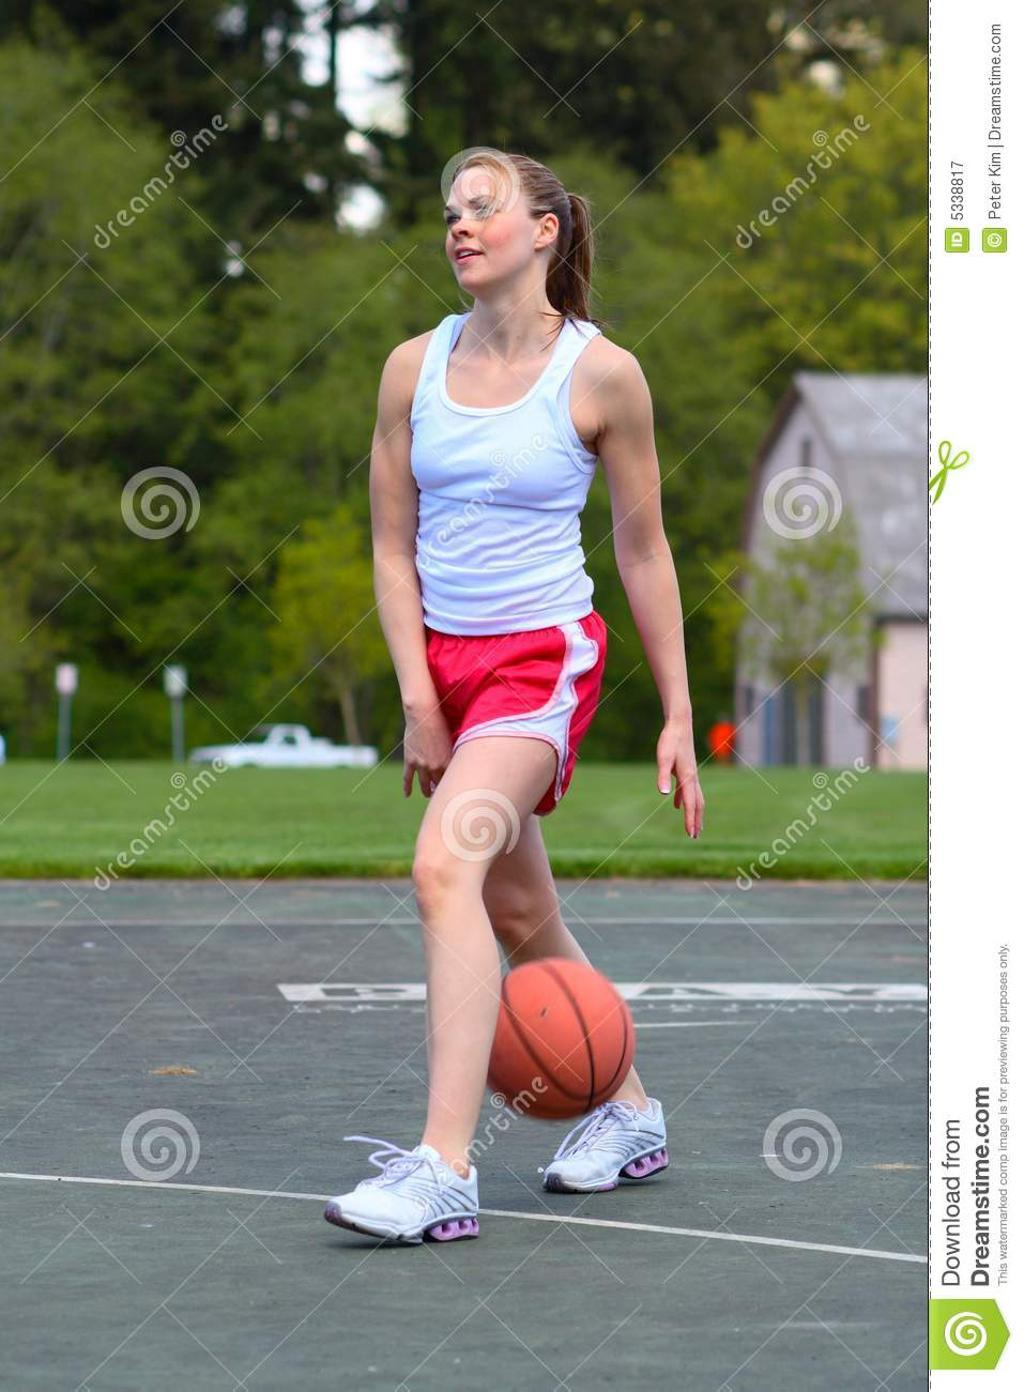face: (444, 161, 542, 283)
